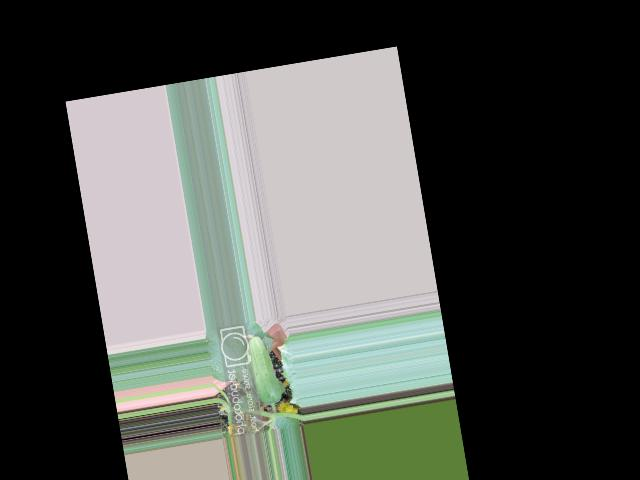cucumber: (243, 333, 282, 405)
